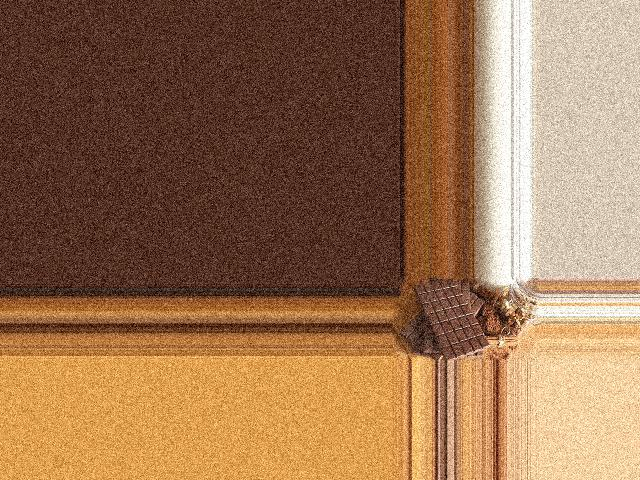chocolate: (412, 281, 494, 360)
